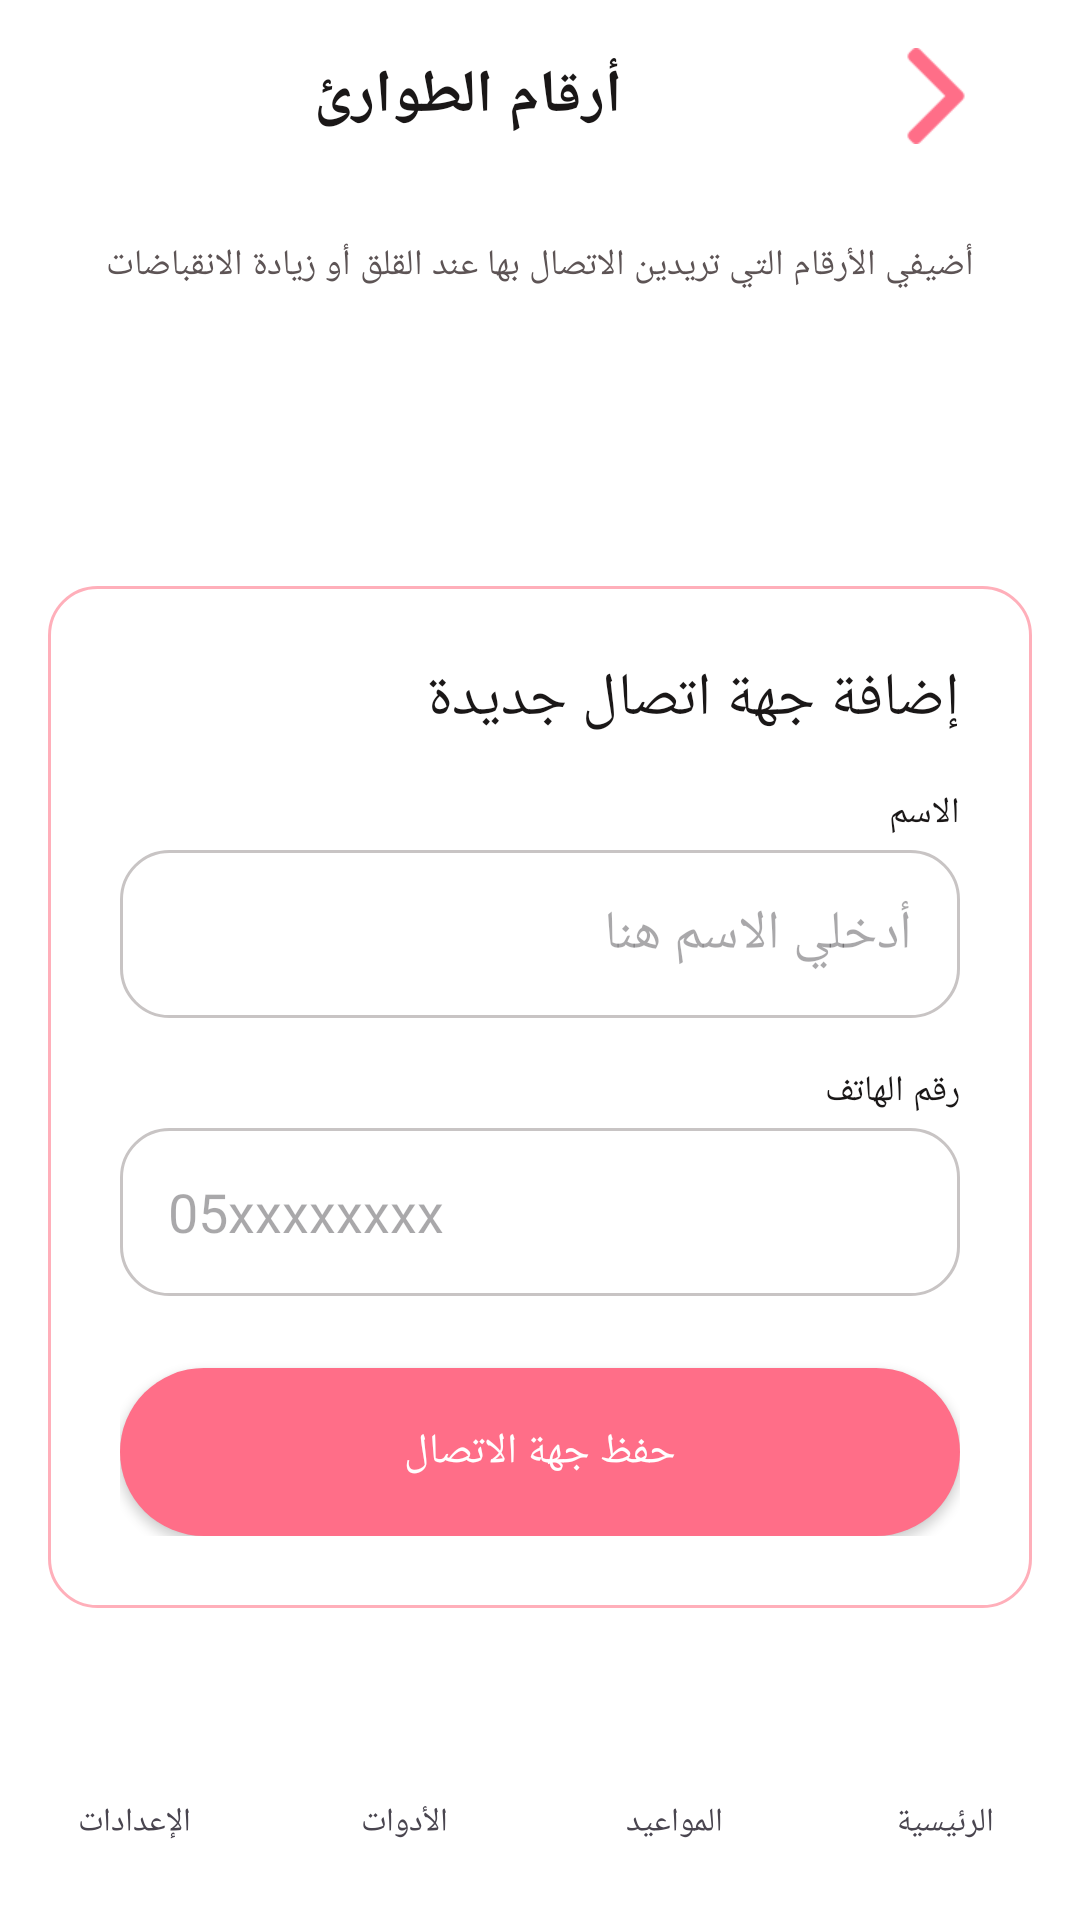

Screen size 1080x1920. Icon name, then its center in pixels as [x,y]:
rightarrow: [936,96]
